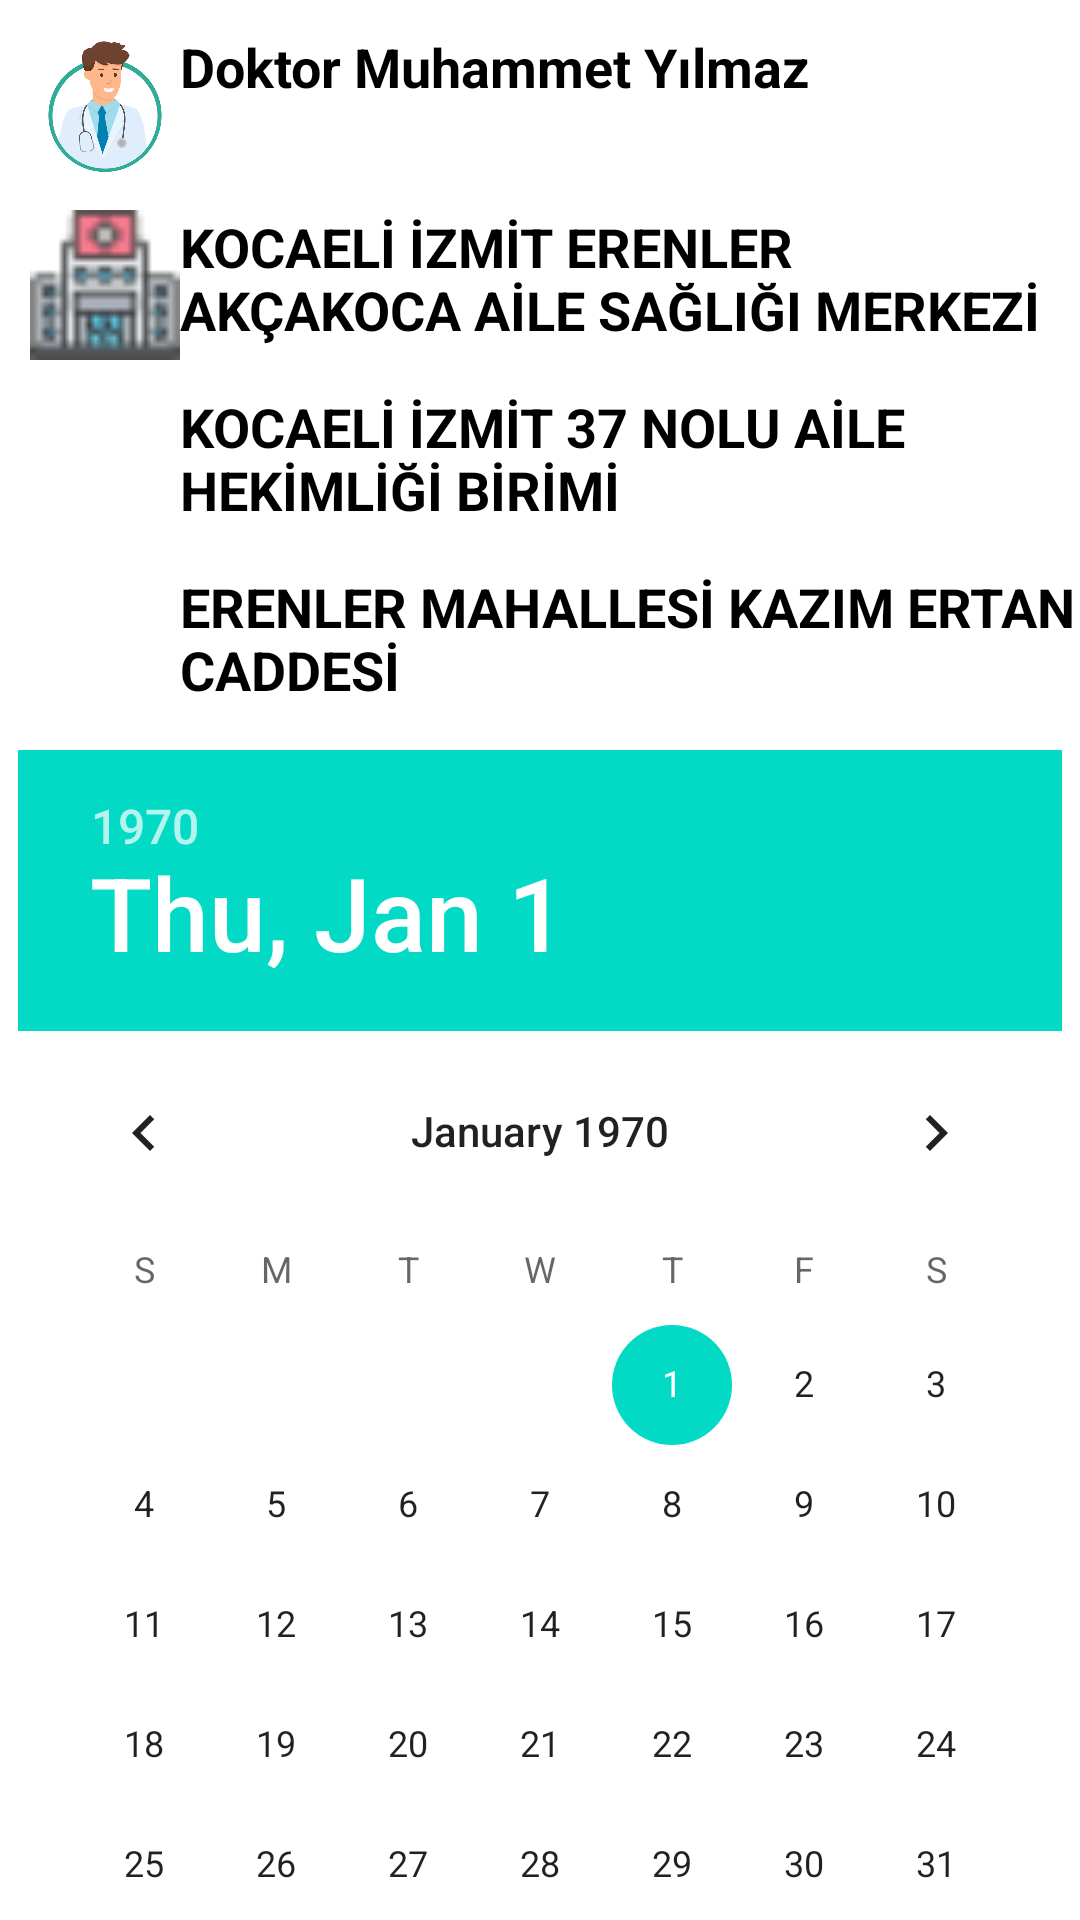

Icons on this 1080px×1920px Android screen, each with its box as (x1, y1, x2, y2):
doctor: (48, 41, 162, 172)
hospital: (30, 210, 180, 360)
